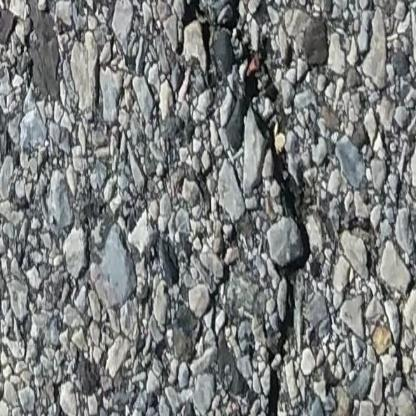Cracks: (186, 0, 314, 416)
